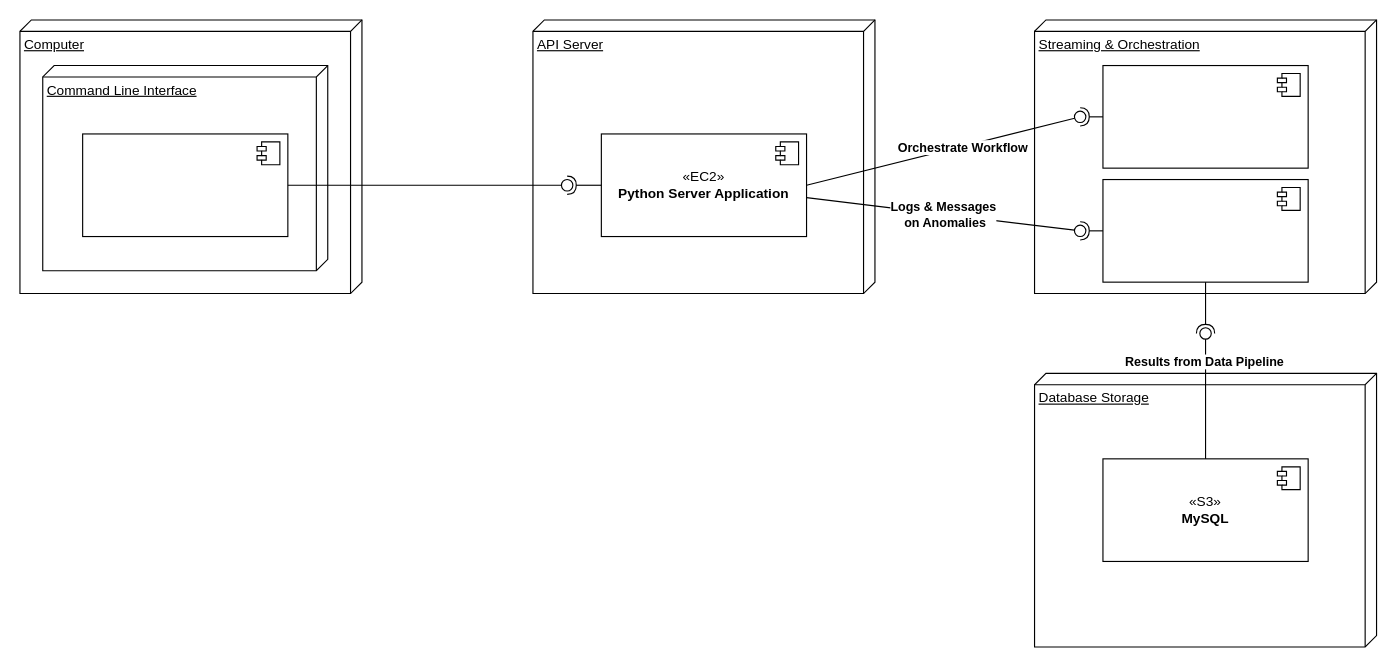
Image size: 1397x667. Some labels were removed from this diagram. The centre of each missing label's shape, as x and y in pixels:
"«Component» Python CLI Application" belongs at (185,185).
"«MSK» Apache Kafka" belongs at (1205,230).
"«MWAA» Apache Airflow" belongs at (1205,116).
